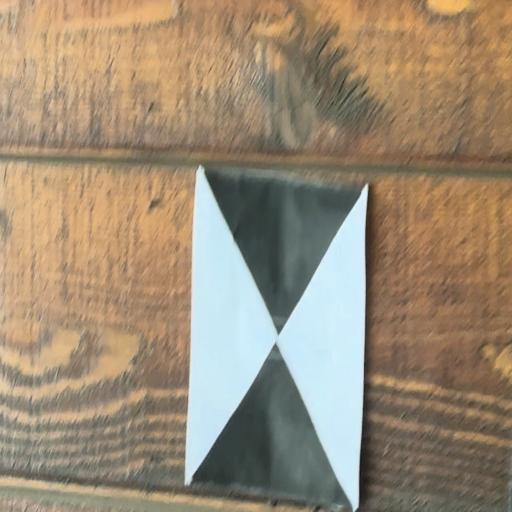target: (184, 165, 369, 509)
